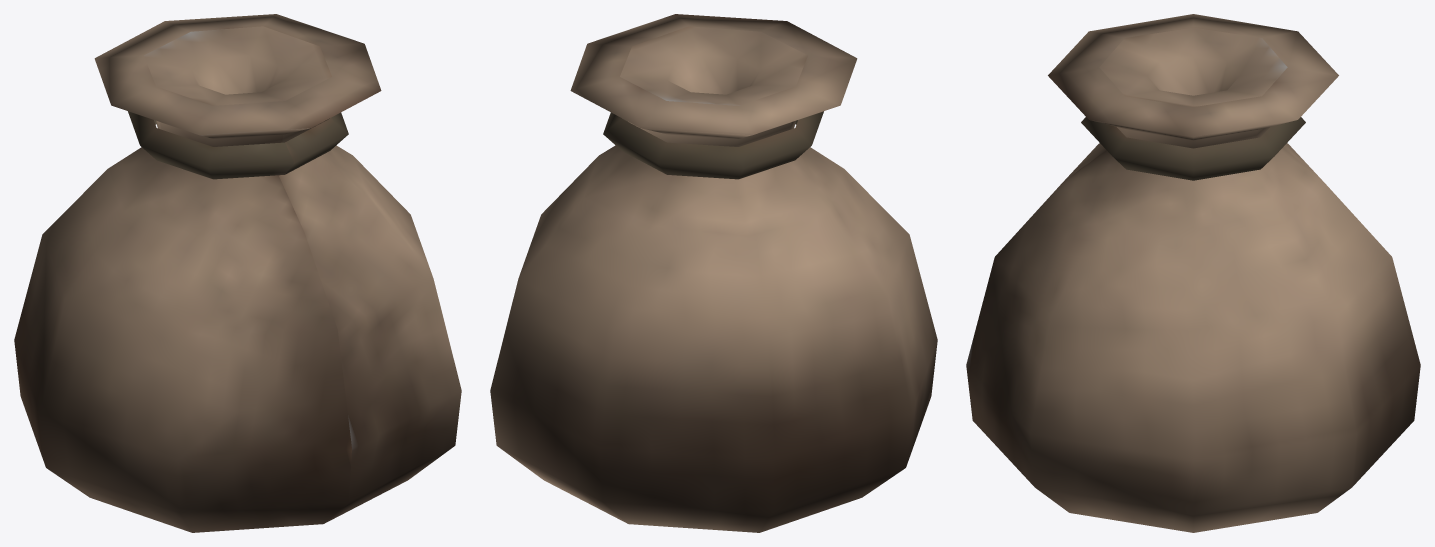
File: Asset_01_trashbag_v001.obj
3 views of the same model, side by side, from view 1: azimuth 30°, elevation 25°; view 2: azimuth 150°, elevation 25°; view 3: azimuth 270°, elevation 25° (orthographic).
Parts seen in each view (by area): view 1: Trashbag; view 2: Trashbag; view 3: Trashbag.
Boxes of the visible parts, left/top/right/bottom form: Trashbag: left=14, top=14, right=461, bottom=532; Trashbag: left=490, top=14, right=937, bottom=532; Trashbag: left=966, top=14, right=1420, bottom=532.
Size of the model in its own units: 0.6289 by 0.6465 by 0.6289.
